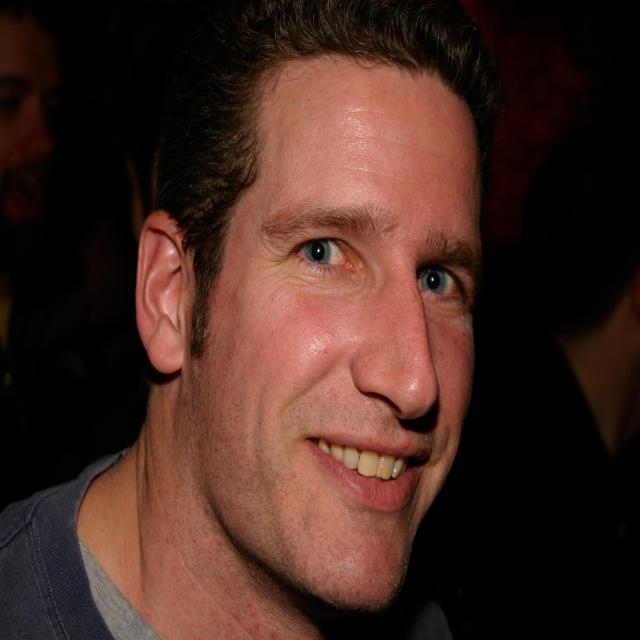no-glass: (291, 232, 458, 304)
